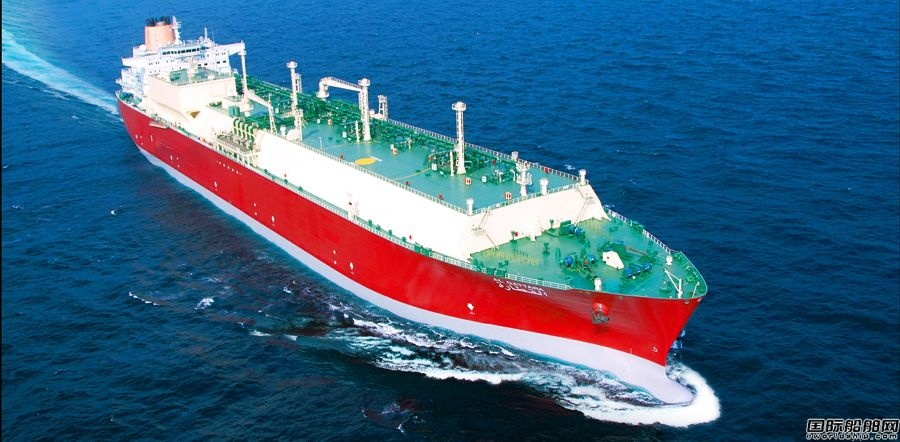Cargoship: (113, 14, 716, 401)
